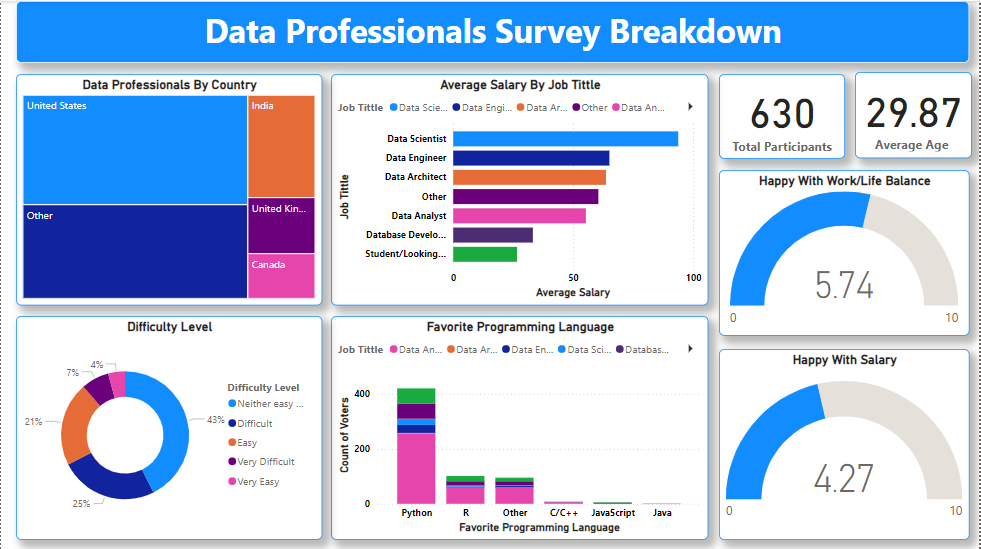

The page's visual inventory and layout, read from the dashboard file:
{"tool":"powerbi","page":{"name":"Page 1","canvas":[1280,720],"ordinal":0},"visuals":[{"type":"textbox","box":[19.3,0,1248.3,81.2],"z":0},{"type":"card","fields":{"Values":["CountNonNull(Data Professional Survey.Unique ID)"]},"box":[940,95,165.2,111.5],"z":1000},{"type":"card","fields":{"Values":["Avg(Data Professional Survey.Q10 - Current Age)"]},"box":[1117.6,93.6,152.8,112.9],"z":2000},{"type":"barChart","title":"Average Salary By Job Tittle","fields":{"Category":["Data Professional Survey.Q1 - Which Title Best Fits your Current Role?.1"],"Y":["Avg(Data Professional Survey.Average Salary)"],"Series":["Data Professional Survey.Q1 - Which Title Best Fits your Current Role?.1"]},"box":[432.2,95,494.1,302.8],"z":3000},{"type":"columnChart","title":"Favorite Programming Language","fields":{"Category":["Data Professional Survey.Q5 - Favorite Programming Language.1"],"Y":["CountNonNull(Data Professional Survey.Unique ID)"],"Series":["Data Professional Survey.Q1 - Which Title Best Fits your Current Role?.1"]},"box":[432.2,412.9,494.1,293.2],"z":4000},{"type":"treemap","title":"Data Professionals By Country","fields":{"Group":["Data Professional Survey.Q11 - Which Country do you live in?.1"],"Values":["CountNonNull(Data Professional Survey.Q11 - Which Country do you live in?.1)"]},"box":[19.3,95,400.5,302.8],"z":5000},{"type":"gauge","title":"Happy With Salary","fields":{"Y":["Avg(Data Professional Survey.Q6 - How Happy are you in your Current Position with the following? (Salary))"],"MinValue":["Min(Data Professional Survey.Q6 - How Happy are you in your Current Position with the following? (Salary))"],"MaxValue":["Max(Data Professional Survey.Q6 - How Happy are you in your Current Position with the following? (Salary))"]},"box":[940,455.6,327.6,250.5],"z":6000},{"type":"gauge","title":"Happy With Work/Life Balance","fields":{"Y":["Avg(Data Professional Survey.Q6 - How Happy are you in your Current Position with the following? (Work/Life Balance))"],"MinValue":["Min(Data Professional Survey.Q6 - How Happy are you in your Current Position with the following? (Work/Life Balance))"],"MaxValue":["Max(Data Professional Survey.Q6 - How Happy are you in your Current Position with the following? (Work/Life Balance))"]},"box":[940,221.6,327.6,217.5],"z":7000},{"type":"donutChart","title":"Difficulty Level ","fields":{"Category":["Data Professional Survey.Q7 - How difficult was it for you to break into Data?"],"Y":["CountNonNull(Data Professional Survey.Unique ID)"]},"box":[19.3,412.9,400.5,293.2],"z":8000}]}

Visuals, with their boxes in screenshot pixels (x1, y1, x2, y2), scaled from the page's 1280x720 canvas onto the 981x549 screenshot:
textbox: left=15, top=0, right=971, bottom=62
card - CountNonNull(Data Professional Survey.Unique ID): left=720, top=72, right=847, bottom=157
card - Avg(Data Professional Survey.Q10 - Current Age): left=857, top=71, right=974, bottom=157
"Average Salary By Job Tittle" barChart: left=331, top=72, right=710, bottom=303
"Favorite Programming Language" columnChart: left=331, top=315, right=710, bottom=538
"Data Professionals By Country" treemap: left=15, top=72, right=322, bottom=303
"Happy With Salary" gauge: left=720, top=347, right=971, bottom=538
"Happy With Work/Life Balance" gauge: left=720, top=169, right=971, bottom=335
"Difficulty Level " donutChart: left=15, top=315, right=322, bottom=538
